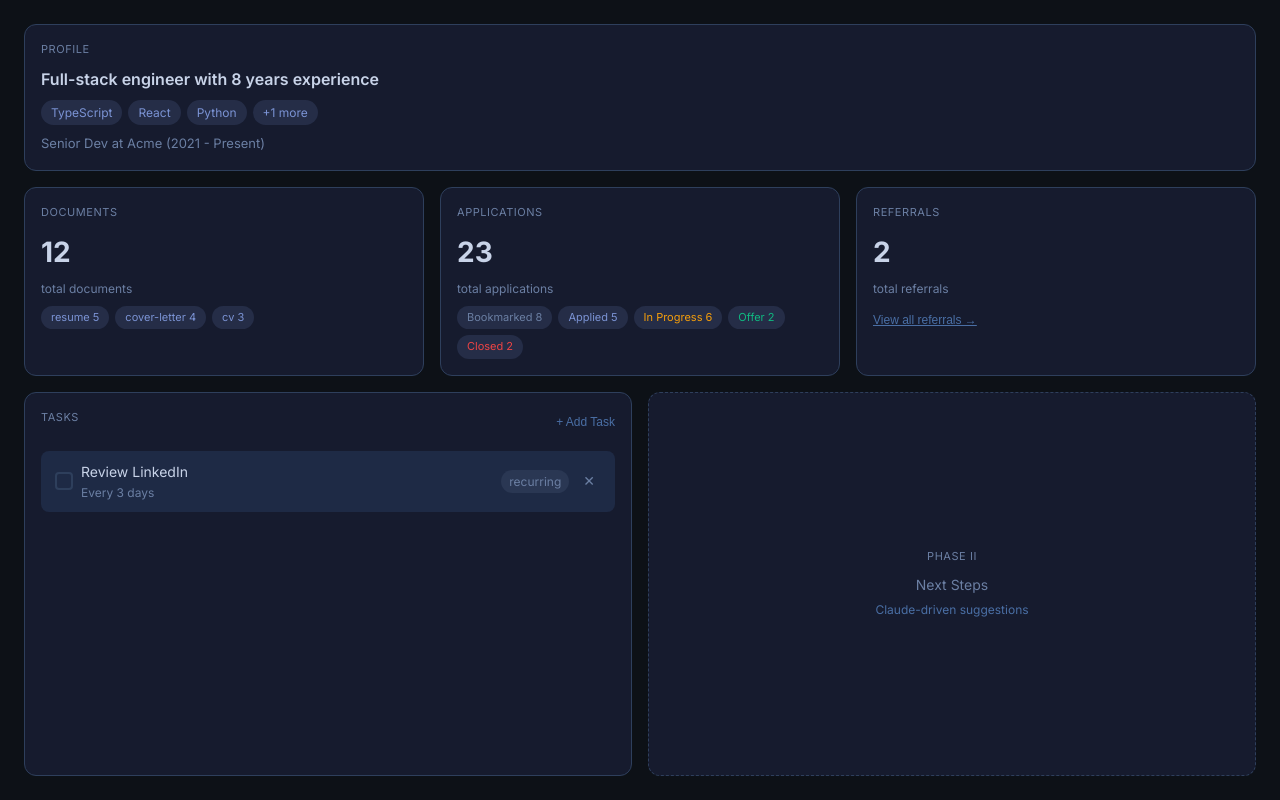
Dashboard › opens referral popover on click
The image size is (1280, 800).
Click the button "View all referrals →" at (925, 320), box [873,313,977,327]
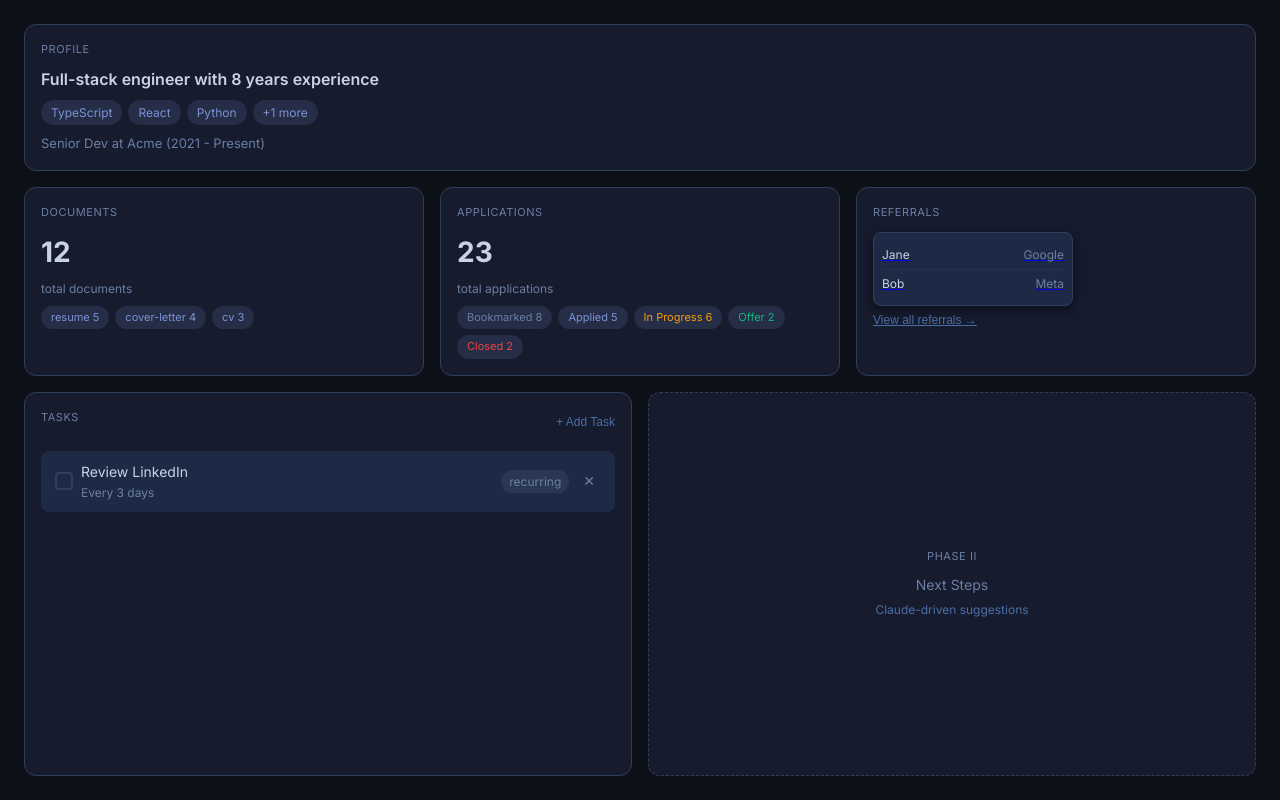
Check: the element with test id "referral-popover" is shown, box [873,232,1073,306]
Check: the text "Jane" is shown, box [882,245,910,265]
